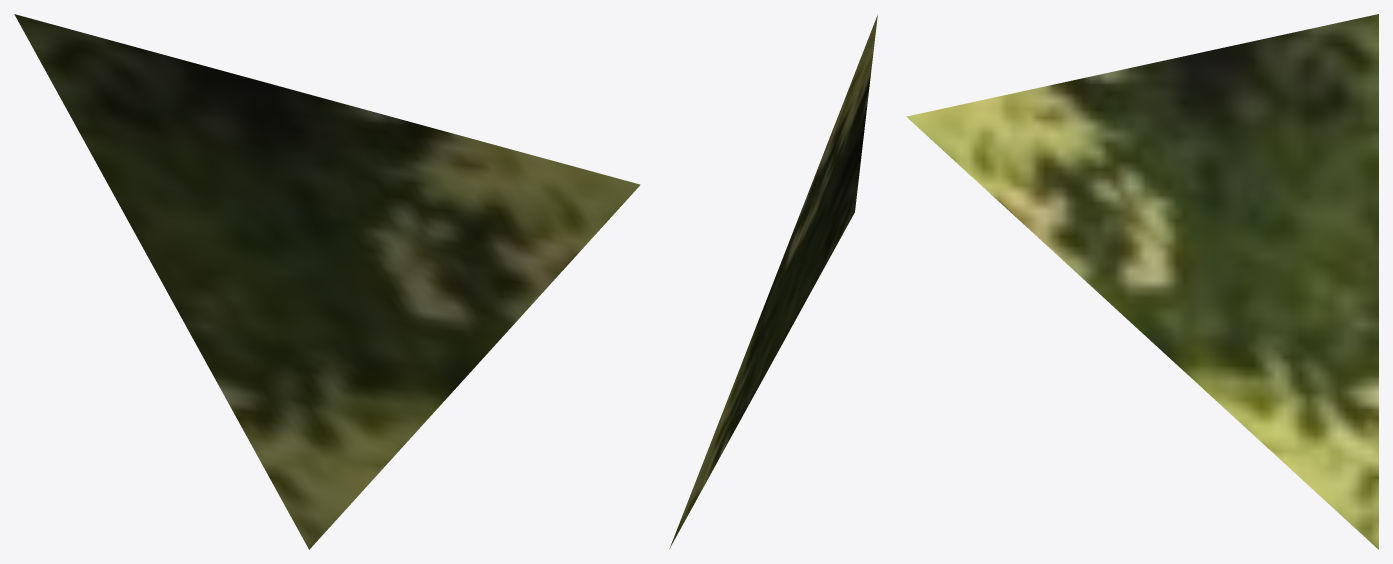
The picture shows the model from 3 angles, left to right: view 1: azimuth 30°, elevation 25°; view 2: azimuth 150°, elevation 25°; view 3: azimuth 270°, elevation 25°; orthographic projection. The views are drawn at different scales.
Bounding box in the file's own units: 0.3484 × 0.686 × 0.6781.
Materials: 1 (1 with a texture image).
